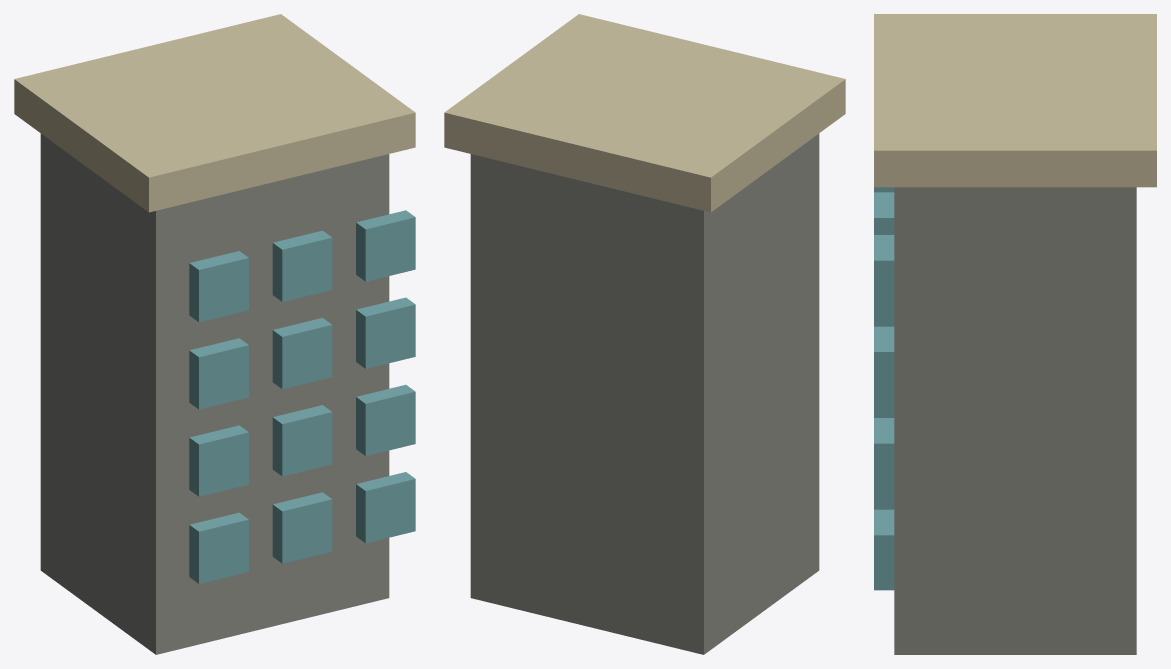
Rendered from manufacturing-12.glb.
The picture shows the model from 3 angles, left to right: view 1: azimuth 30°, elevation 25°; view 2: azimuth 150°, elevation 25°; view 3: azimuth 270°, elevation 25°; orthographic projection. The views are drawn at different scales.
Visible parts, largest first — view 1: Factory model; view 2: Factory model; view 3: Factory model.
Part boxes in pixels (x1,y1,x2,y2): Factory model: (14,14,415,654); Factory model: (444,14,845,654); Factory model: (874,14,1156,654).
Bounding box in the file's own units: 1.28 × 2.24 × 1.12.
